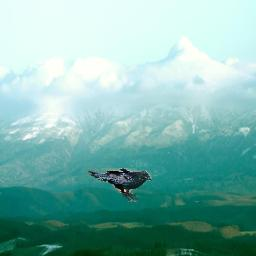Crow: (87, 168, 152, 202)
